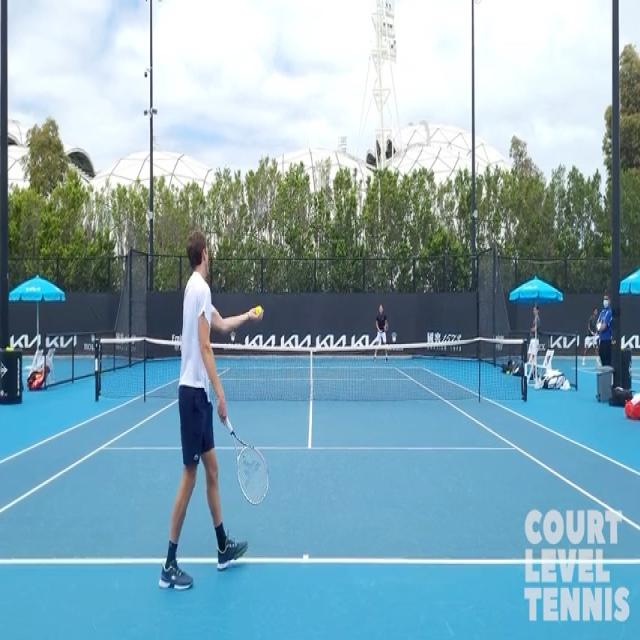serve_toss: (162, 235, 263, 588)
